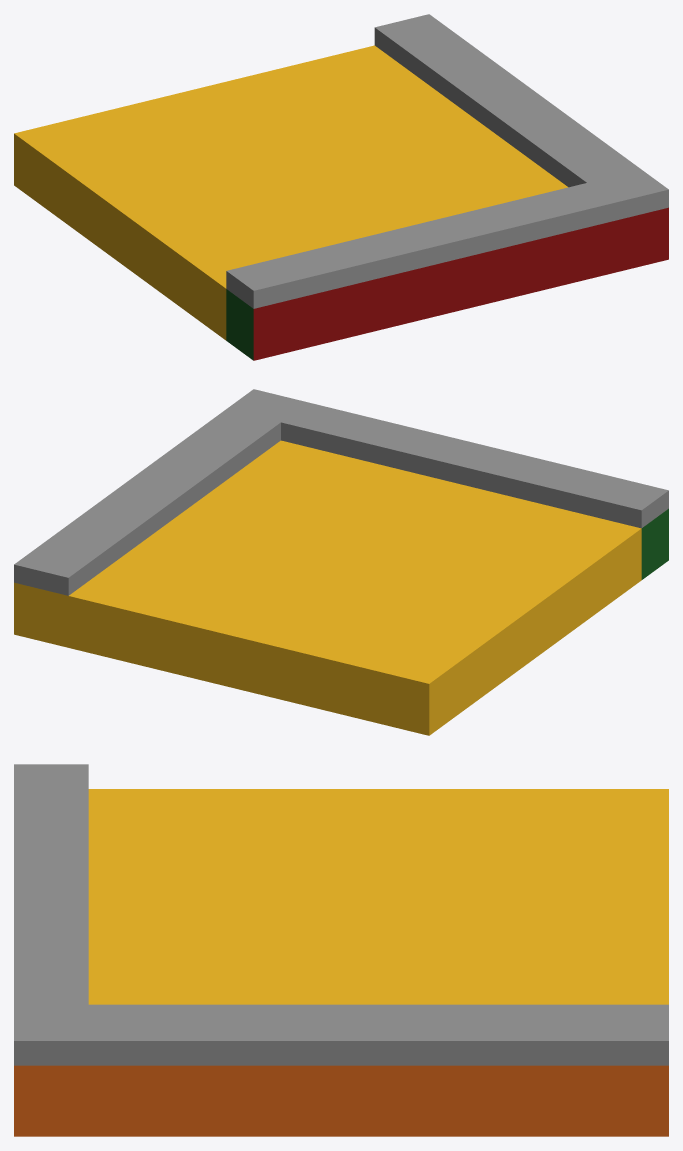
Rendered from MOD_solsableangle.FBX.
3 renders of one model, top to bottom at view 1: azimuth 30°, elevation 25°; view 2: azimuth 150°, elevation 25°; view 3: azimuth 270°, elevation 25°, orthographic. The views are drawn at different scales.
Visible parts, largest first — view 1: MOD_solherbeangle001; view 2: MOD_solherbeangle001; view 3: MOD_solherbeangle001.
Part boxes in pixels (x1=…): MOD_solherbeangle001: x1=14, y1=14, x2=668, y2=360; MOD_solherbeangle001: x1=14, y1=389, x2=668, y2=735; MOD_solherbeangle001: x1=14, y1=764, x2=668, y2=1136.
Bounding box in the file's own units: 1 × 0.1611 × 1.
